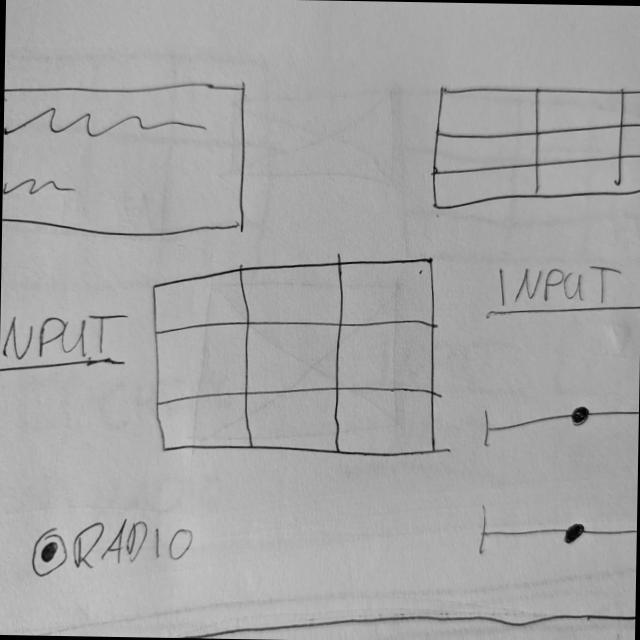input: (479, 253, 640, 323)
radio: (28, 512, 198, 589)
table: (147, 252, 445, 462), (429, 80, 640, 220)
textarea: (3, 76, 251, 243)
